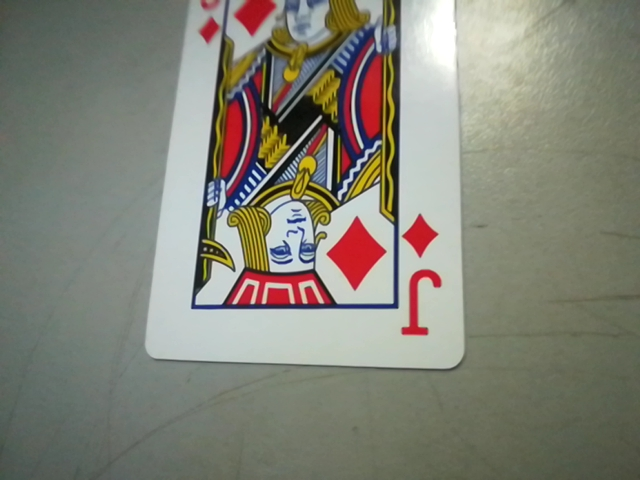fk j: (392, 208, 453, 348)
